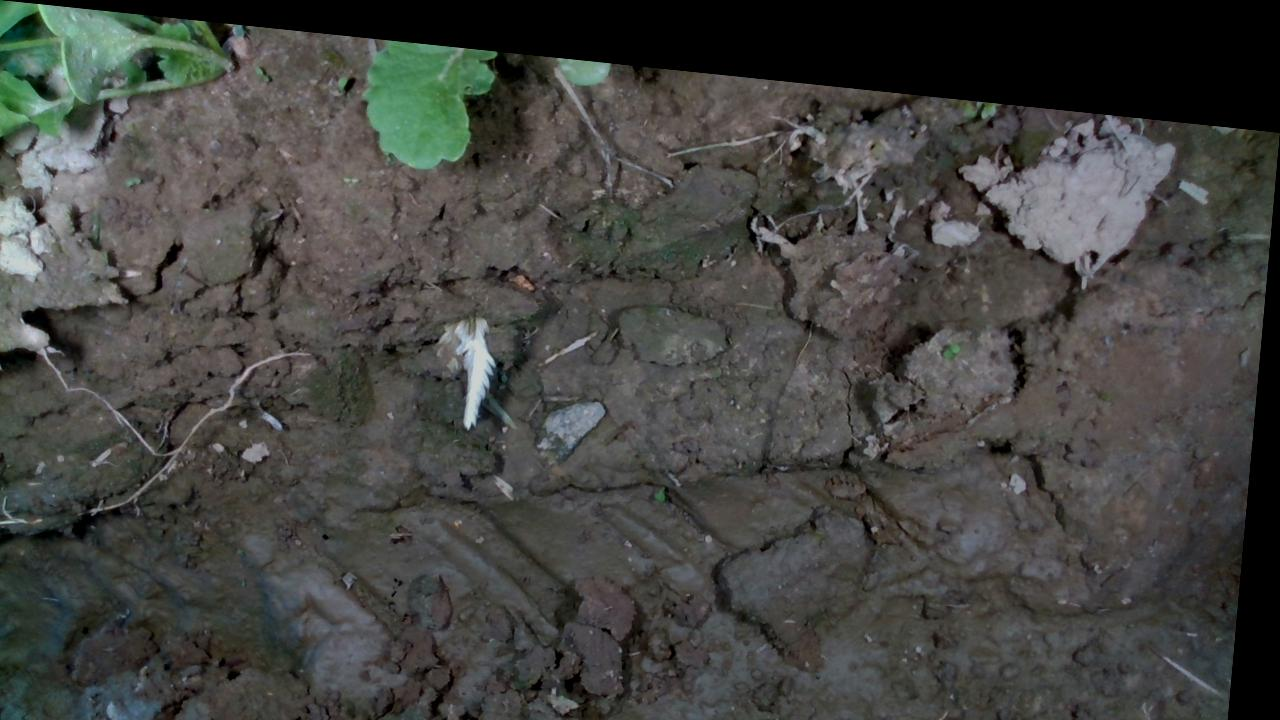weed: (944, 318, 964, 339)
